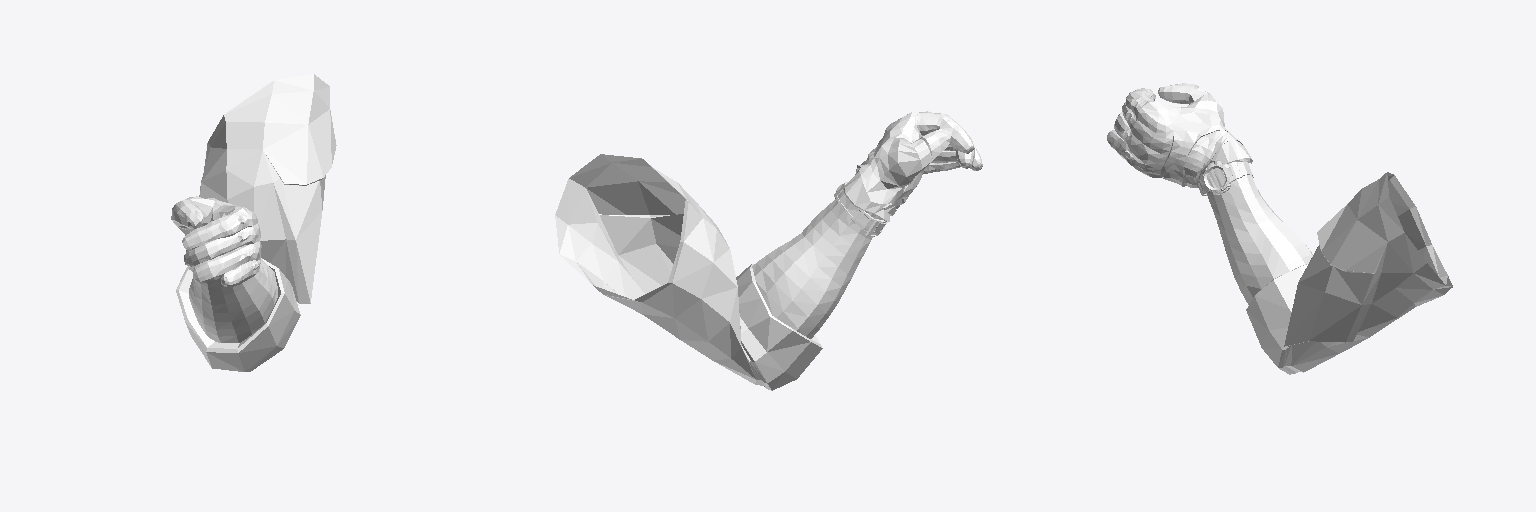
Rendered from mag_assault_pos.obj.
3 views of the same model, side by side, from view 1: azimuth 30°, elevation 25°; view 2: azimuth 150°, elevation 25°; view 3: azimuth 270°, elevation 25° (orthographic).
Visible parts, largest first — view 1: BF3.001; view 2: BF3.001; view 3: BF3.001.
Boxes of the visible parts, x1=… form: BF3.001: x1=171, y1=74, x2=336, y2=371; BF3.001: x1=555, y1=110, x2=982, y2=390; BF3.001: x1=1107, y1=83, x2=1452, y2=374.
Size of the model in its own units: 15.81 by 12.94 by 17.06.